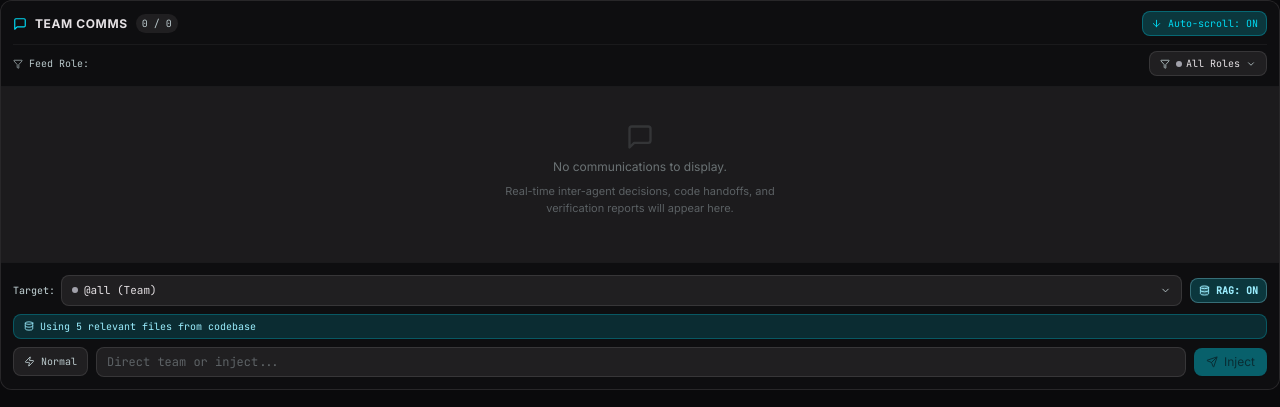
Scenario: Phase B4 — Live Team Chat + Operator Injection › test_operator_injection_sends_post_and_renders_gold_badge: submits injection and renders badge
Type "Ensure test coverage is 100%" into the field with test id "operator-prompt-input" at [641, 362], box [96,346,1186,376]
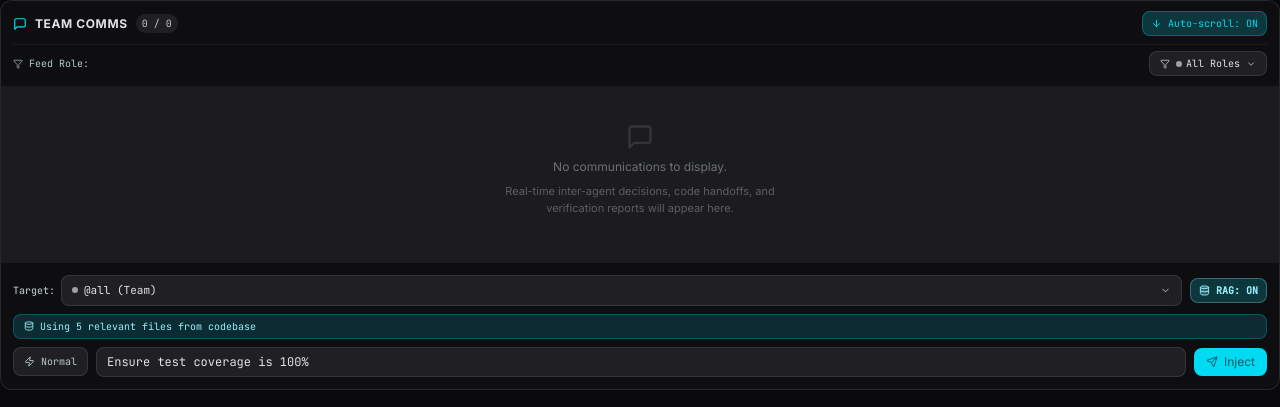
Click the button with test id "operator-submit-btn" at [1230, 362], box [1194,348,1267,376]
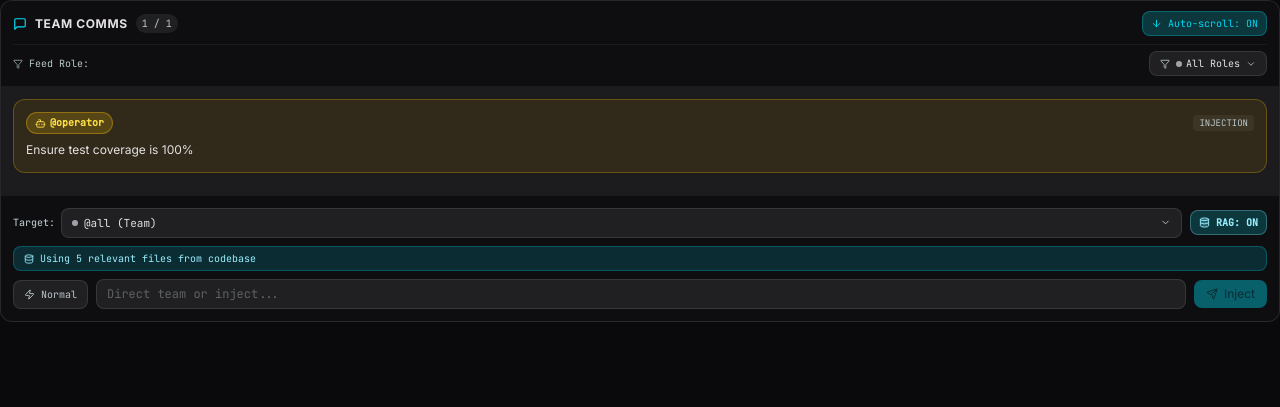
Check: the element with test id "operator-message" is shown, box [13,99,1267,172]
Check: the element with test id "badge-operator" is shown, box [26,112,113,134]
Check: the text "Ensure test coverage is 100%" is shown, box [26,142,194,157]
